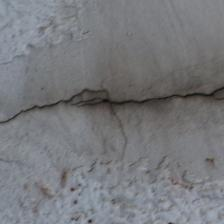Crack: (6, 101, 112, 200), (87, 130, 132, 162)
